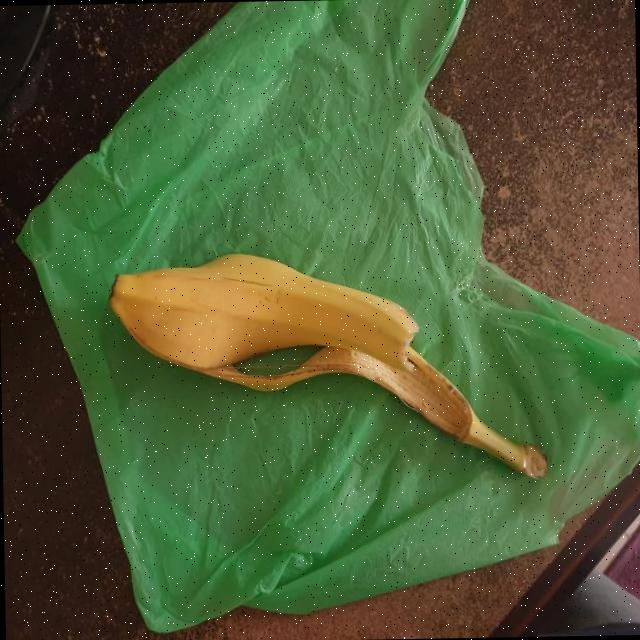banana-peel: (107, 245, 548, 488)
